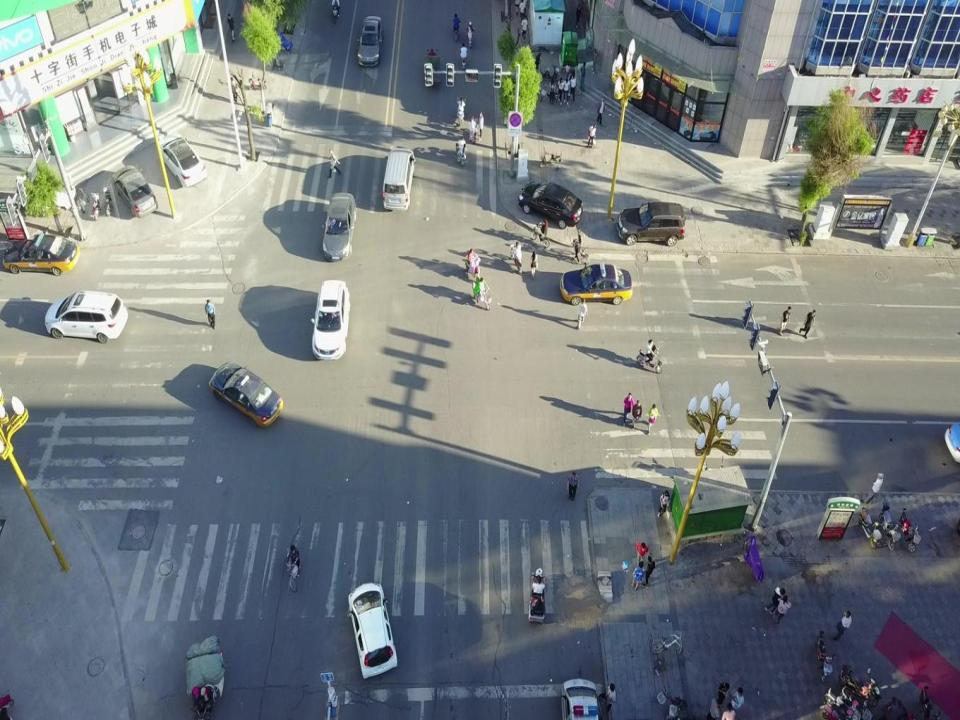car: (346, 582, 398, 682), (208, 362, 284, 428), (44, 290, 128, 343), (2, 232, 81, 275), (311, 278, 350, 360), (518, 180, 583, 228), (617, 202, 685, 246), (560, 264, 632, 304), (156, 133, 207, 187), (112, 165, 159, 218), (322, 192, 356, 262), (560, 677, 601, 720)
van: (382, 148, 416, 211)
